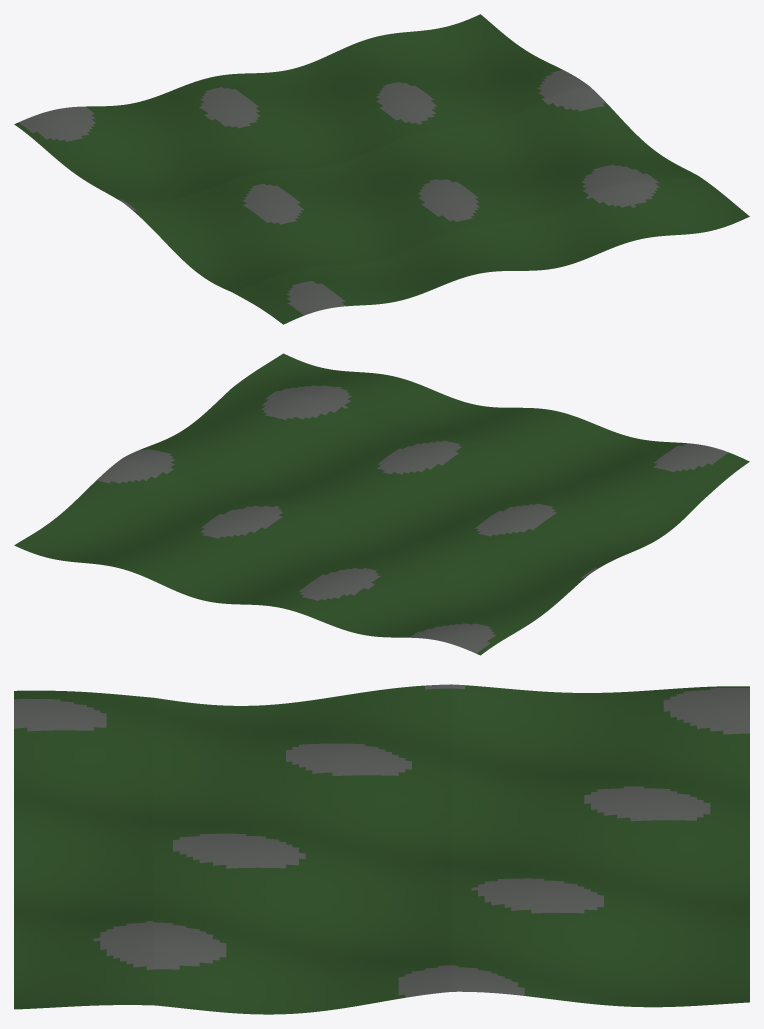
Rendered from pine_ravine_112.obj.
3 renders of one model, top to bottom at view 1: azimuth 30°, elevation 25°; view 2: azimuth 150°, elevation 25°; view 3: azimuth 270°, elevation 25°, orthographic. The views are drawn at different scales.
Size of the model in its own units: 222 by 8.86 by 222.
